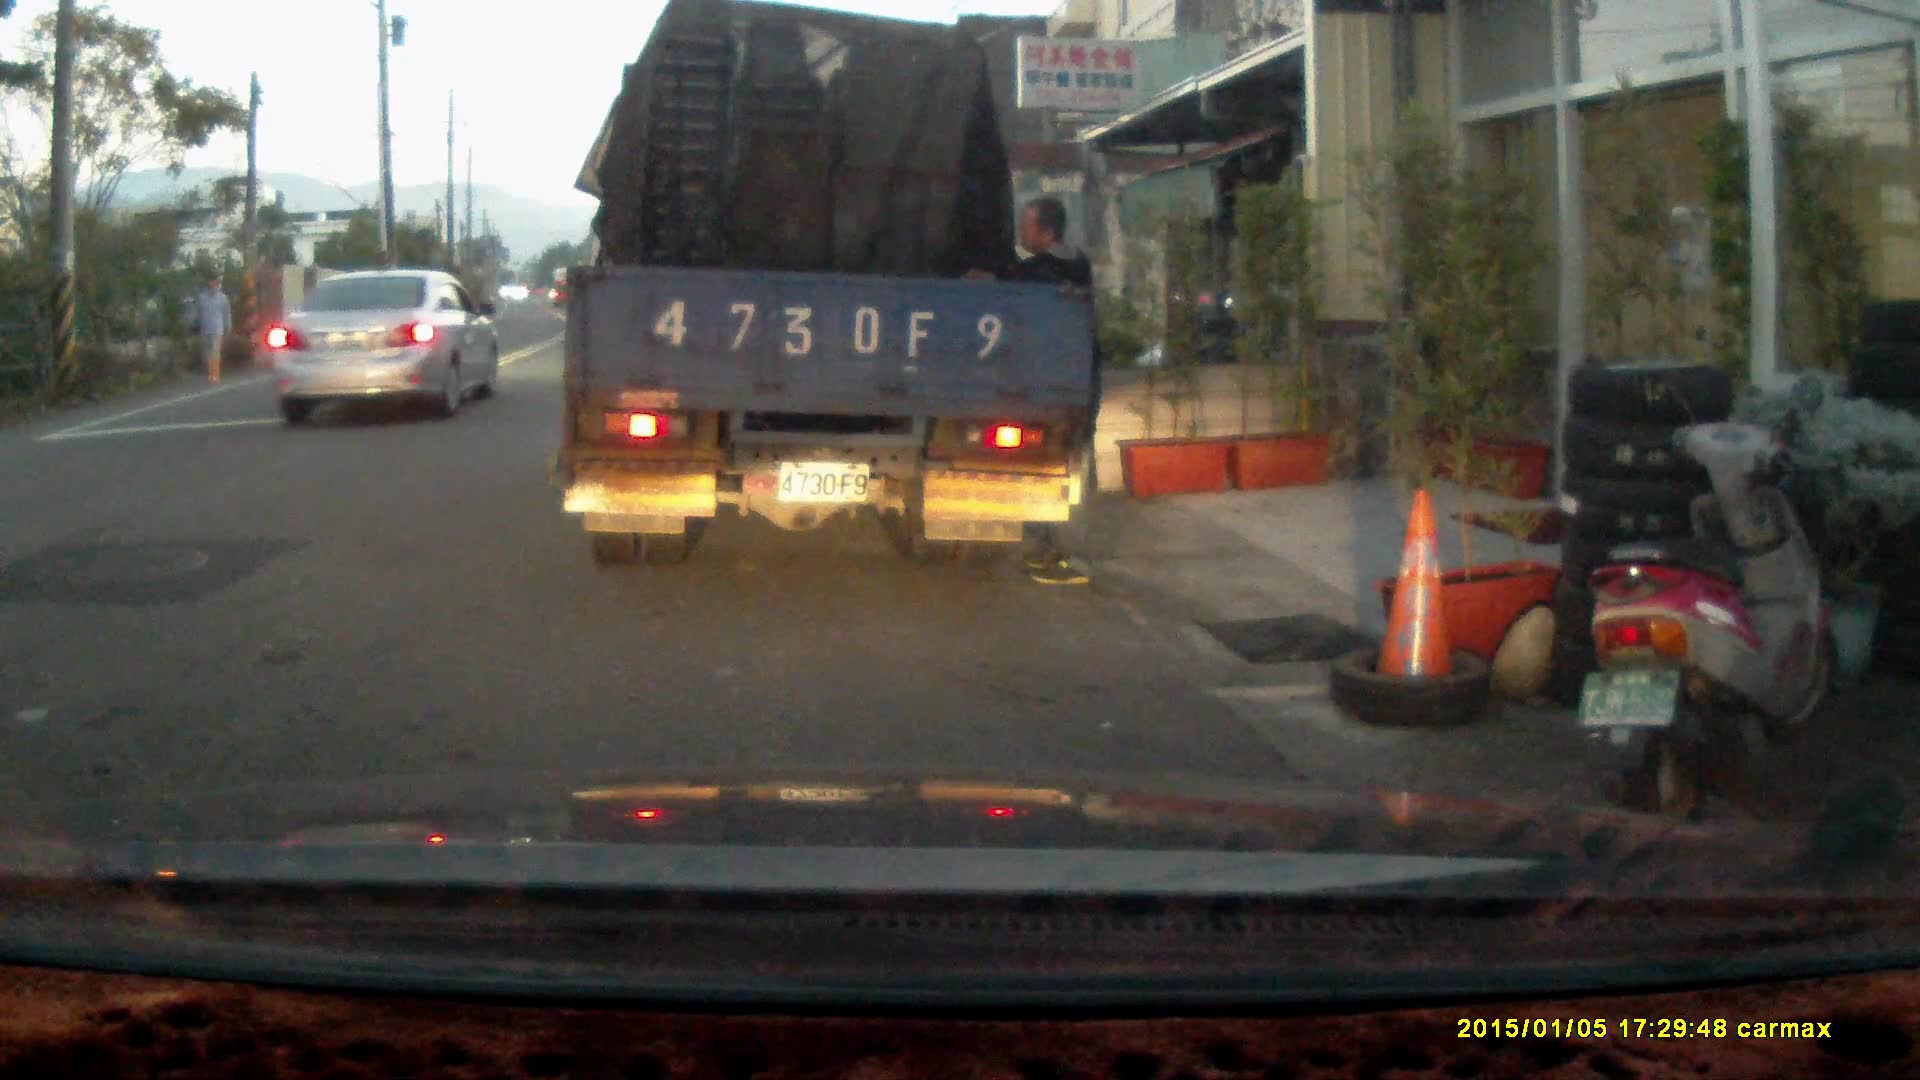pedestrian: (958, 194, 1100, 588), (190, 272, 233, 386)
vehicle: (565, 23, 1097, 572), (268, 267, 506, 424)
